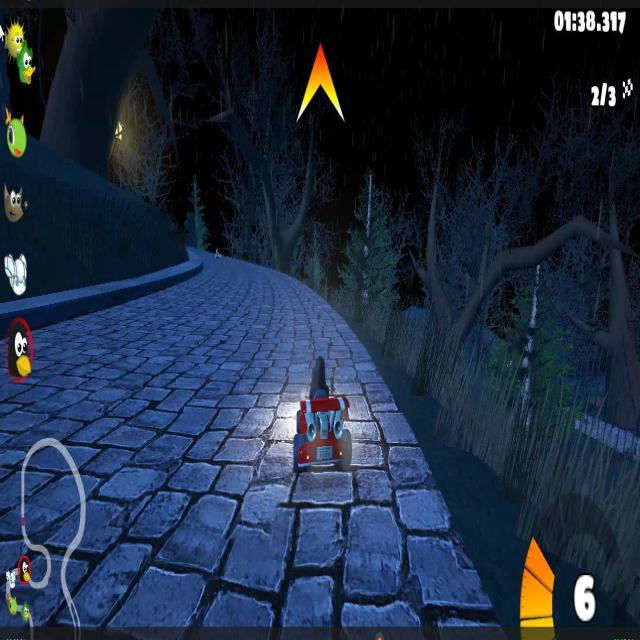track: (48, 323, 289, 619), (290, 464, 460, 630), (138, 297, 348, 361), (181, 276, 313, 309), (199, 265, 268, 283), (201, 249, 231, 261)
